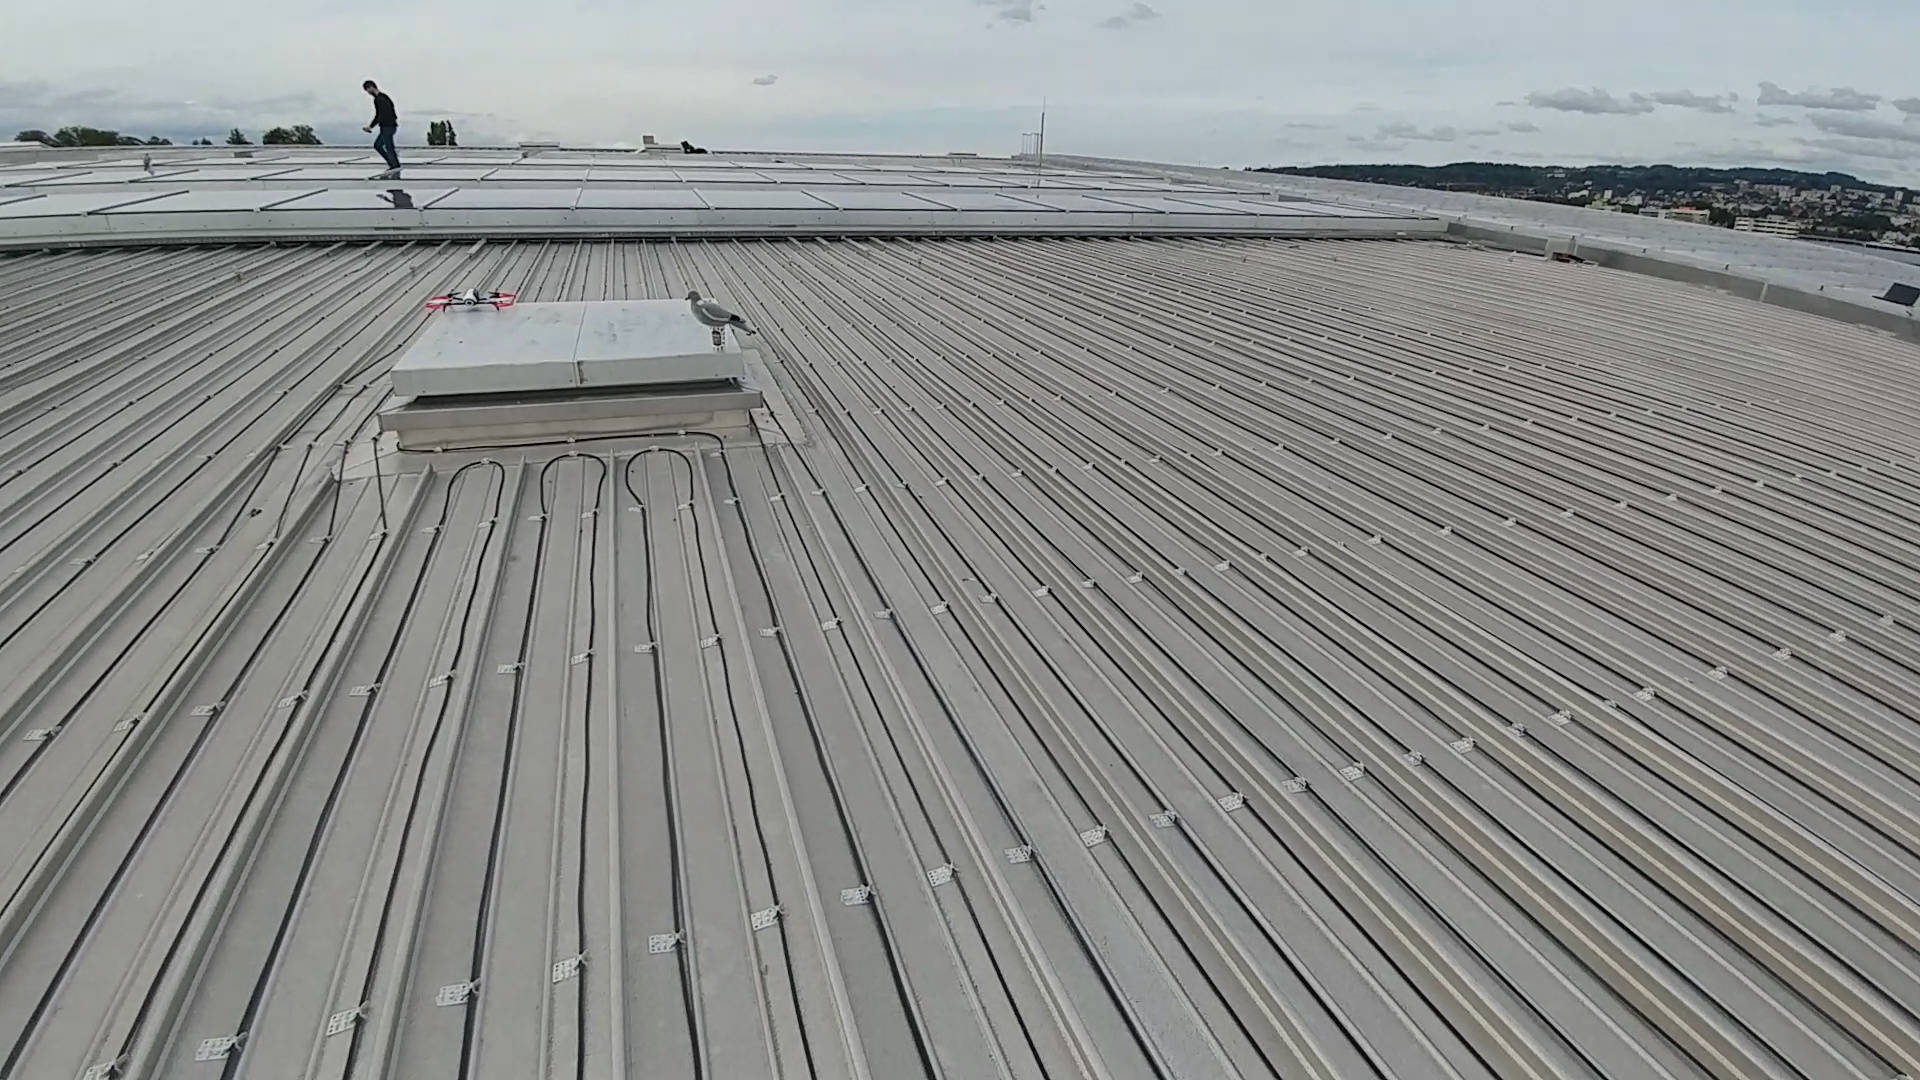Pigeon: (678, 287, 760, 326)
